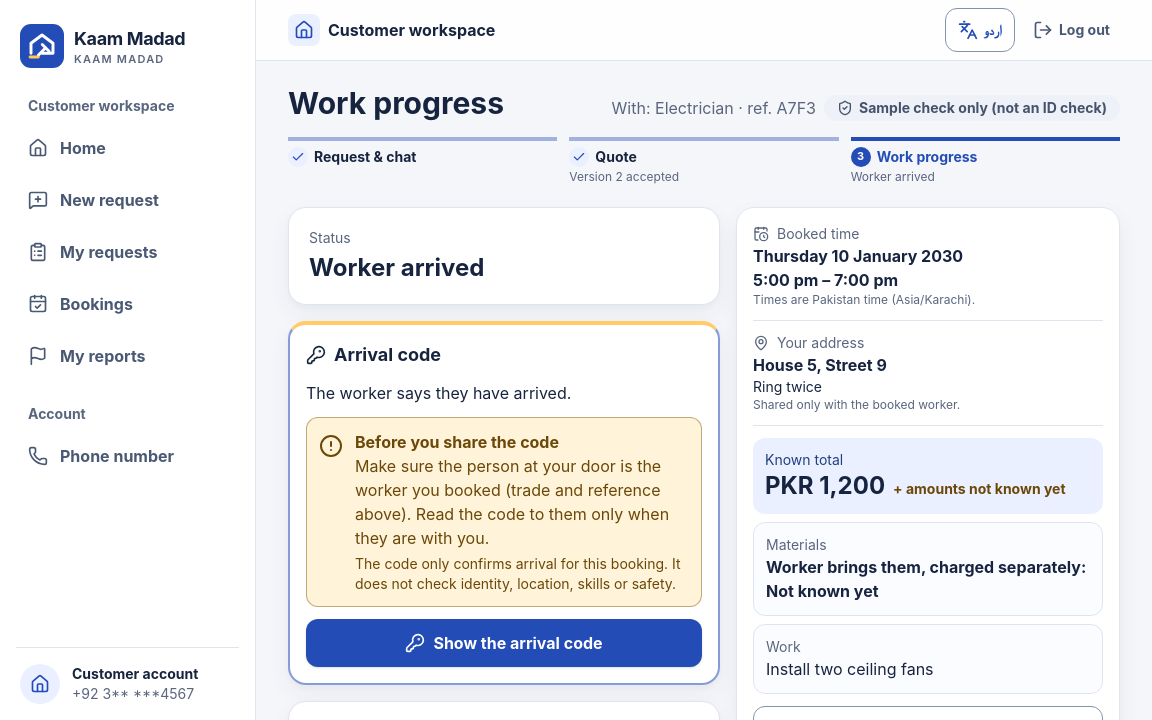
Test: booking screen › customer: the code is shown once after arrival, with what it does and does not prove
The image size is (1152, 720).
Expected: the text "The code only confirms arrival for this booking. It does not check identity, location, skills or safety." is shown, [355, 555, 681, 592]
Expected: the text "482913" is not shown
Click the button "Show the arrival code": (504, 643) [306, 619, 702, 667]
(page scrolled)
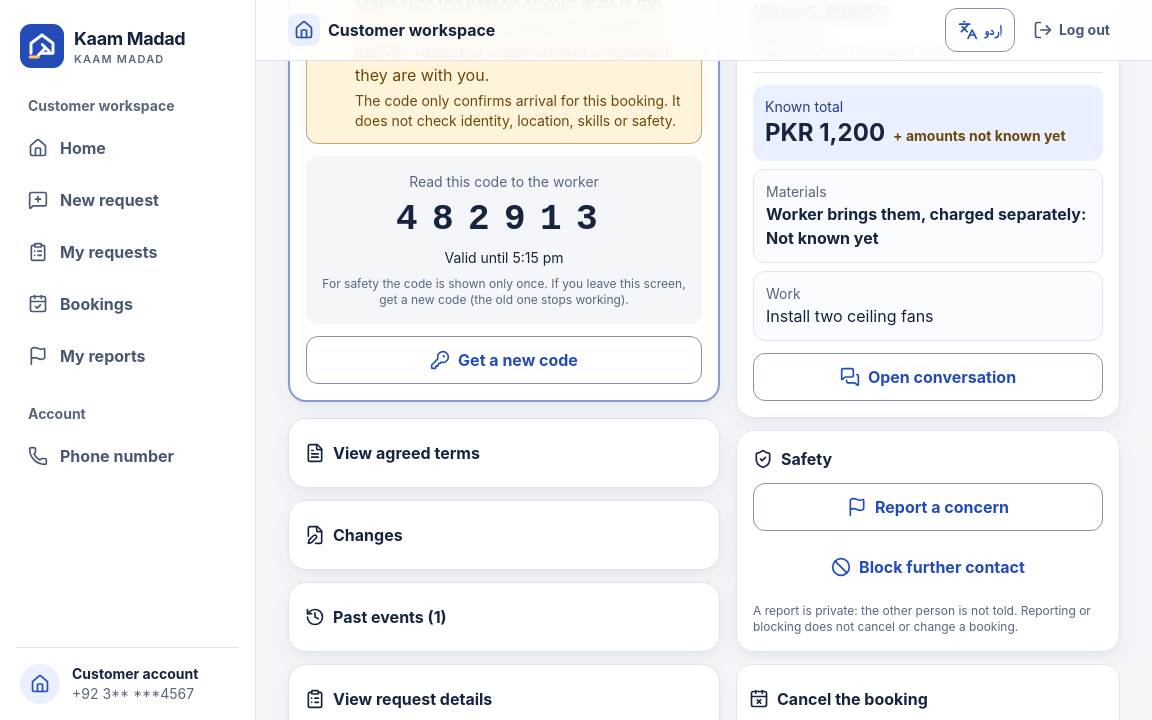
Expected: the text "482913" is shown, [396, 199, 612, 240]
Expected: the text "For safety the code is shown only once. If you leave this screen, get a new code (the old one stops working)." is shown, [322, 276, 686, 307]
Expected: the button "Get a new code" is shown, [306, 336, 702, 384]
